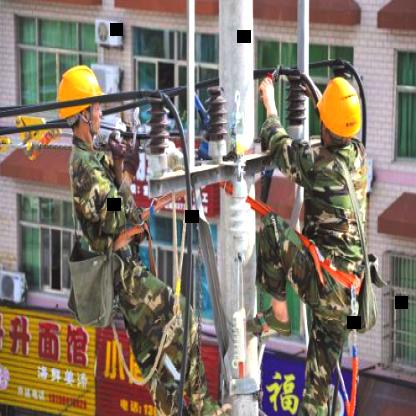helmet: (53, 57, 109, 145), (316, 72, 366, 148)
